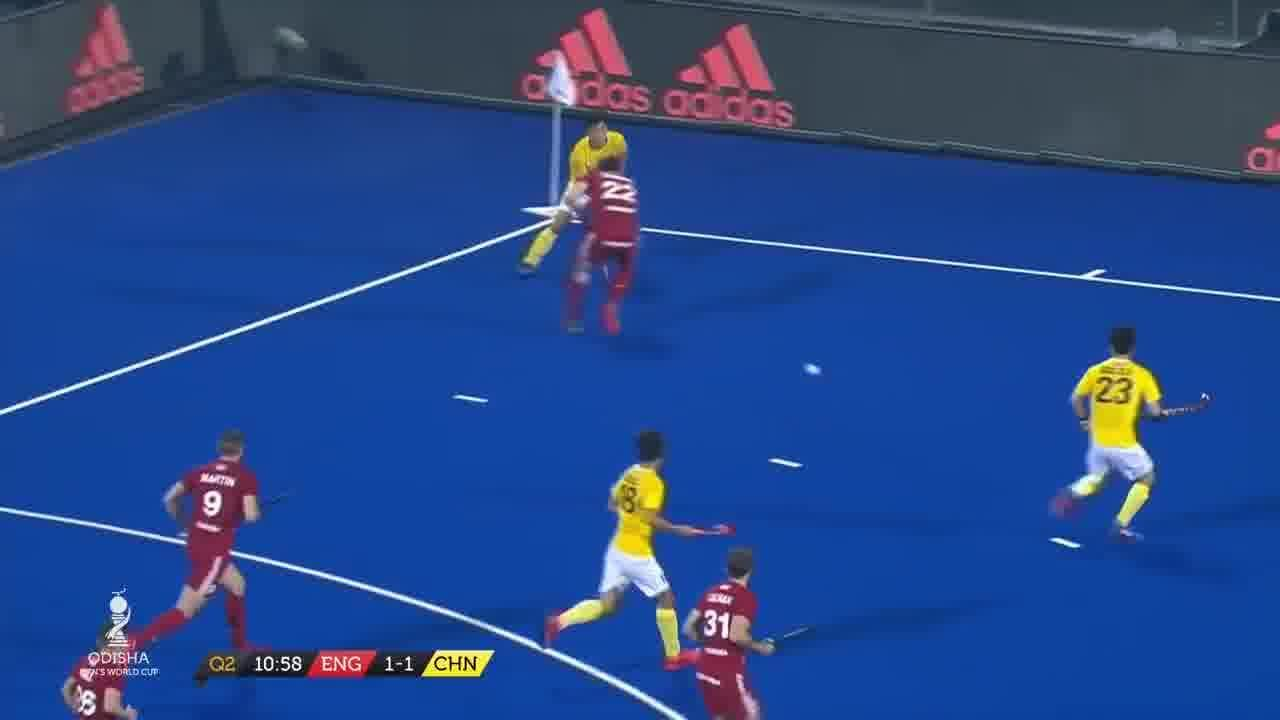ball: (798, 354, 828, 384)
